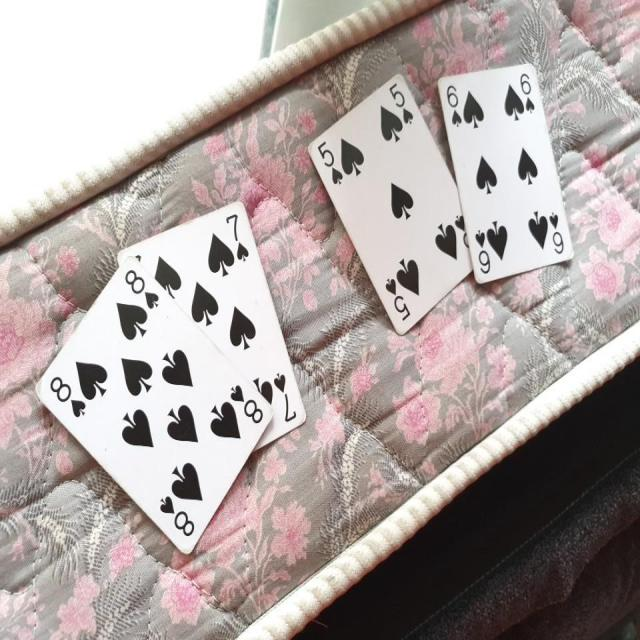5 Spades: (296, 74, 480, 344)
6 Spades: (436, 60, 578, 298)
7 Spades: (103, 196, 309, 450)
8 Spades: (24, 250, 279, 565)
